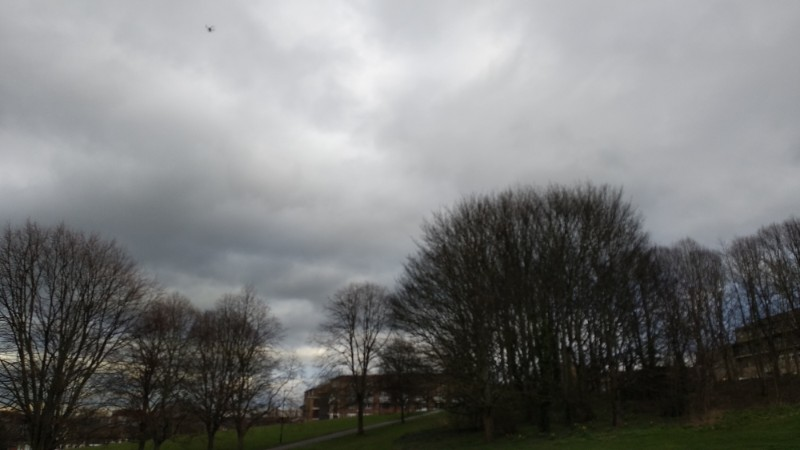drone: (205, 23, 215, 34)
